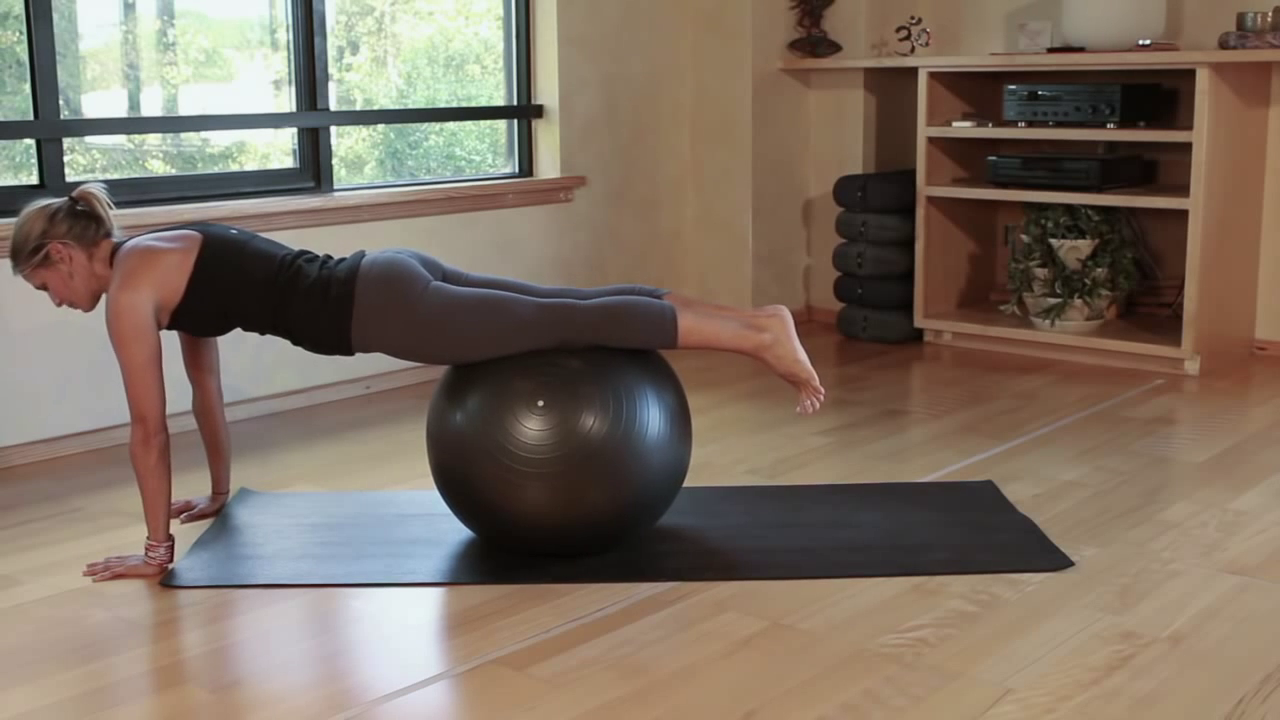yogaball: (420, 340, 703, 557)
